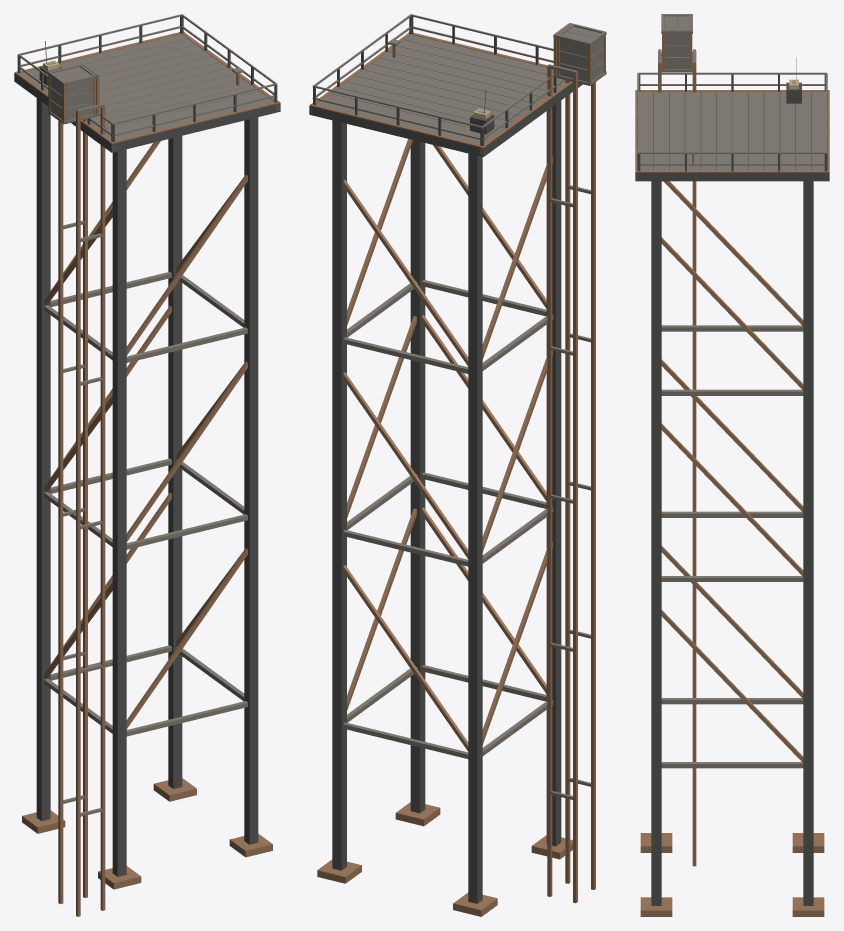
File: tower_delivery.glb
The picture shows the model from 3 angles, left to right: view 1: azimuth 30°, elevation 25°; view 2: azimuth 150°, elevation 25°; view 3: azimuth 270°, elevation 25°; orthographic projection. The views are drawn at different scales.
Visible parts, largest first — view 1: Support_2, Support_4, Support_1, Support_3, LiftShaft_4, LiftShaft_1, LiftShaft_2, LiftShaft_3, DeckStructure, CrossBrace_06, CrossBrace_04, CrossBrace_02 (+28 smaller); view 2: Support_1, Support_3, Support_4, Support_2, LiftShaft_3, LiftShaft_4, LiftShaft_1, LiftShaft_2, DeckStructure, DeckPanel_05, DeckPanel_06, DeckPanel_07 (+37 smaller); view 3: Support_3, Support_4, LiftShaft_3, DeckStructure, DeckPanel_04, DeckPanel_07, DeckPanel_09, DeckPanel_10, DeckPanel_05, DeckPanel_06, DeckPanel_03, DeckPanel_01 (+24 smaller).
Part boxes in pixels (x1=…): Support_2: x1=112, y1=149, x2=126, y2=876; Support_4: x1=244, y1=117, x2=258, y2=844; Support_1: x1=36, y1=98, x2=50, y2=821; Support_3: x1=168, y1=136, x2=182, y2=788; LiftShaft_4: x1=100, y1=105, x2=105, y2=910; LiftShaft_1: x1=58, y1=121, x2=63, y2=903; LiftShaft_2: x1=76, y1=111, x2=80, y2=916; LiftShaft_3: x1=83, y1=119, x2=87, y2=897; DeckStructure: x1=14, y1=73, x2=280, y2=152; CrossBrace_06: x1=126, y1=174, x2=247, y2=355; CrossBrace_04: x1=126, y1=361, x2=247, y2=542; CrossBrace_02: x1=126, y1=548, x2=247, y2=728; Support_1: x1=468, y1=153, x2=482, y2=903; Support_3: x1=332, y1=120, x2=346, y2=870; Support_4: x1=410, y1=140, x2=425, y2=813; Support_2: x1=546, y1=100, x2=561, y2=846; LiftShaft_3: x1=547, y1=66, x2=552, y2=896; LiftShaft_4: x1=565, y1=80, x2=570, y2=883; LiftShaft_1: x1=573, y1=72, x2=577, y2=903; LiftShaft_2: x1=591, y1=82, x2=595, y2=889; DeckStructure: x1=309, y1=83, x2=582, y2=156; DeckPanel_05: x1=355, y1=70, x2=528, y2=115; DeckPanel_06: x1=364, y1=64, x2=536, y2=110; DeckPanel_07: x1=372, y1=58, x2=544, y2=104; Support_3: x1=803, y1=181, x2=813, y2=905; Support_4: x1=651, y1=181, x2=661, y2=905; LiftShaft_3: x1=692, y1=63, x2=696, y2=866; DeckStructure: x1=635, y1=92, x2=829, y2=181; DeckPanel_04: x1=748, y1=92, x2=763, y2=170; DeckPanel_07: x1=701, y1=92, x2=716, y2=170; DeckPanel_09: x1=669, y1=92, x2=684, y2=170; DeckPanel_10: x1=653, y1=92, x2=668, y2=170; DeckPanel_05: x1=732, y1=92, x2=747, y2=170; DeckPanel_06: x1=717, y1=92, x2=732, y2=170; DeckPanel_03: x1=764, y1=92, x2=779, y2=170; DeckPanel_01: x1=796, y1=92, x2=811, y2=170.
Size of the model in its own units: 14.84 by 58.14 by 12.3.
